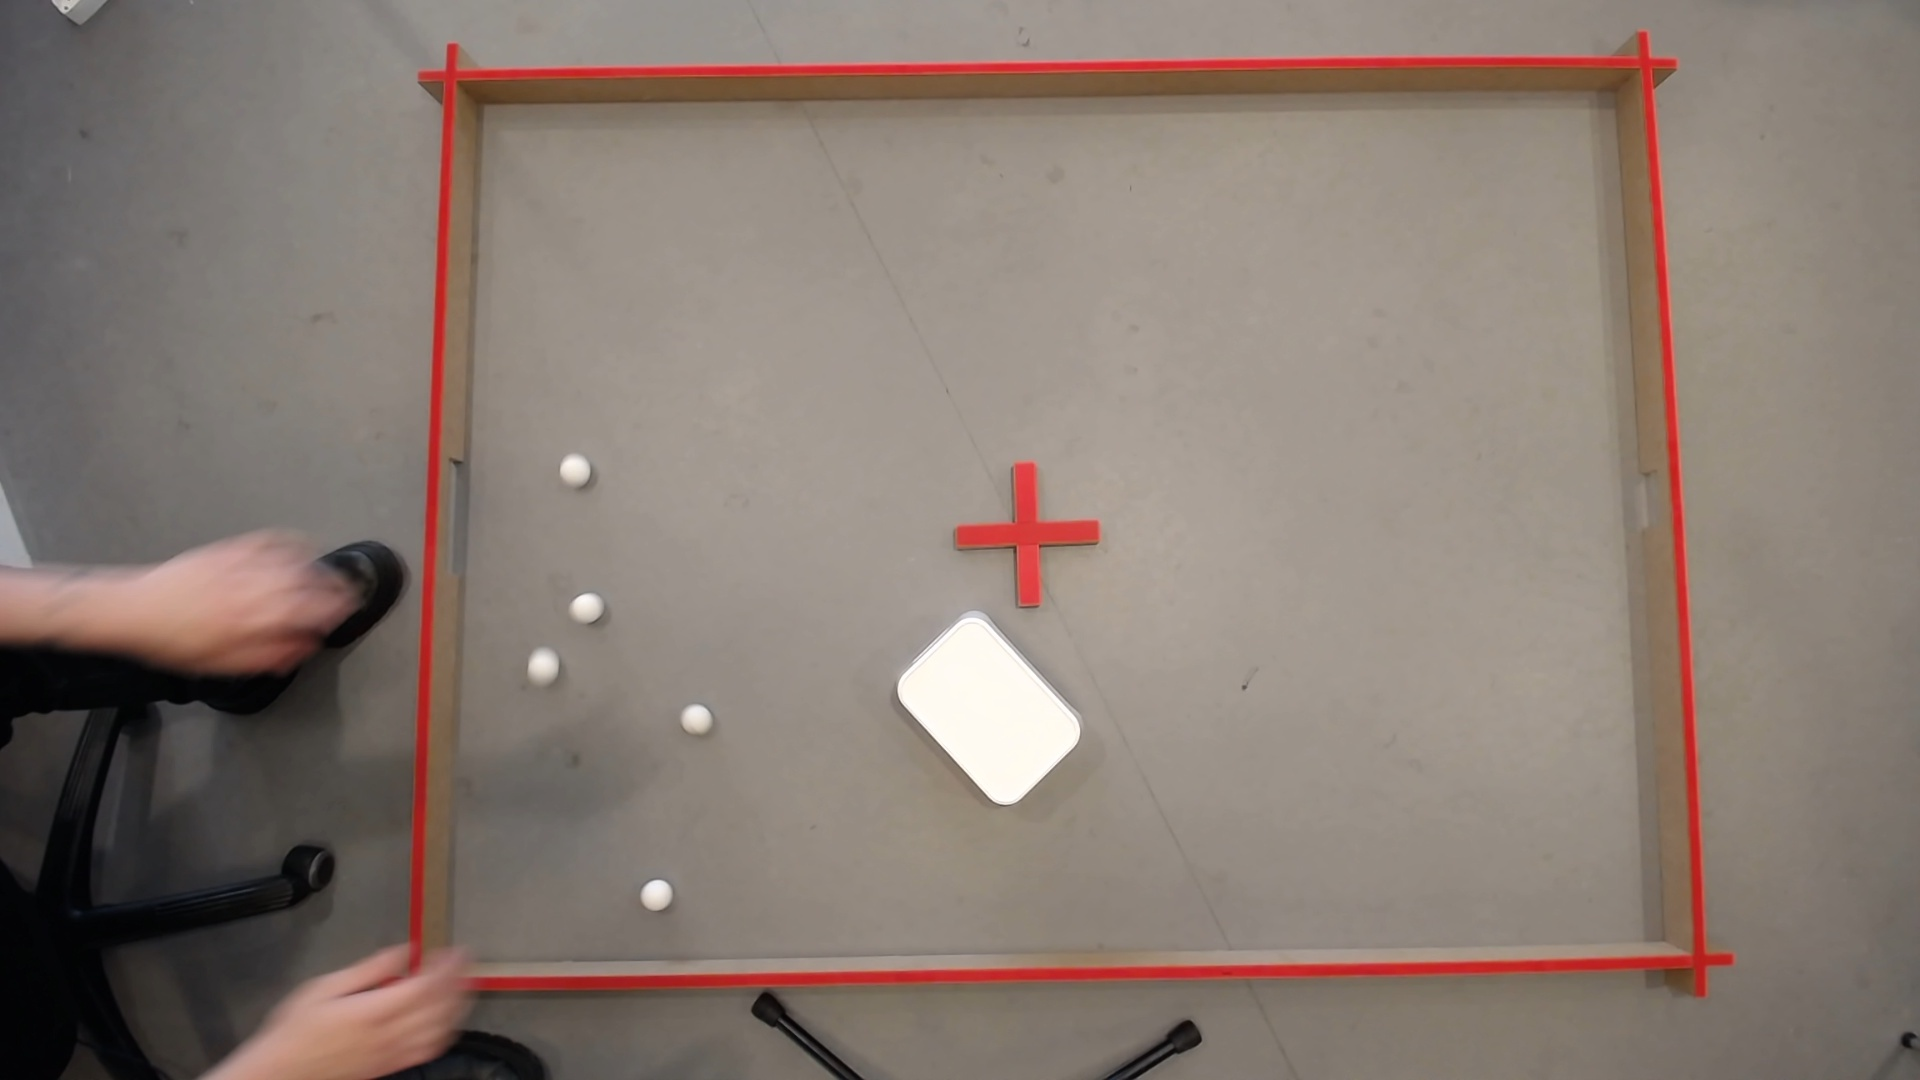balls: (885, 605, 1091, 814), (558, 451, 588, 481), (568, 588, 599, 616), (527, 649, 555, 676), (644, 880, 667, 901)
car: (682, 702, 709, 727)
